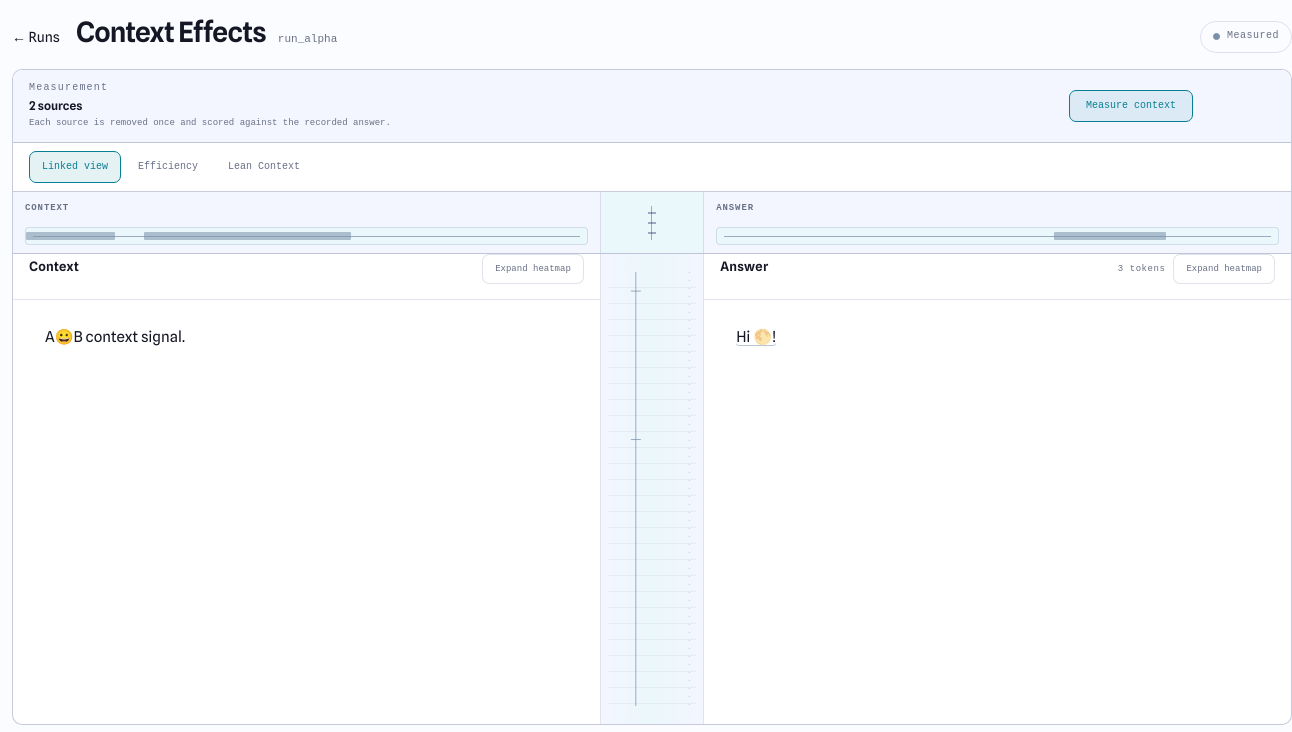
Inspect surface › encodes support and suppression separately in the expanded answer heatmap
Expected: the text "Measured" is shown, [1200, 21, 1291, 53]
Click the button "Expand heatmap" next to "3 tokens": x=1224, y=269 [1173, 254, 1275, 284]
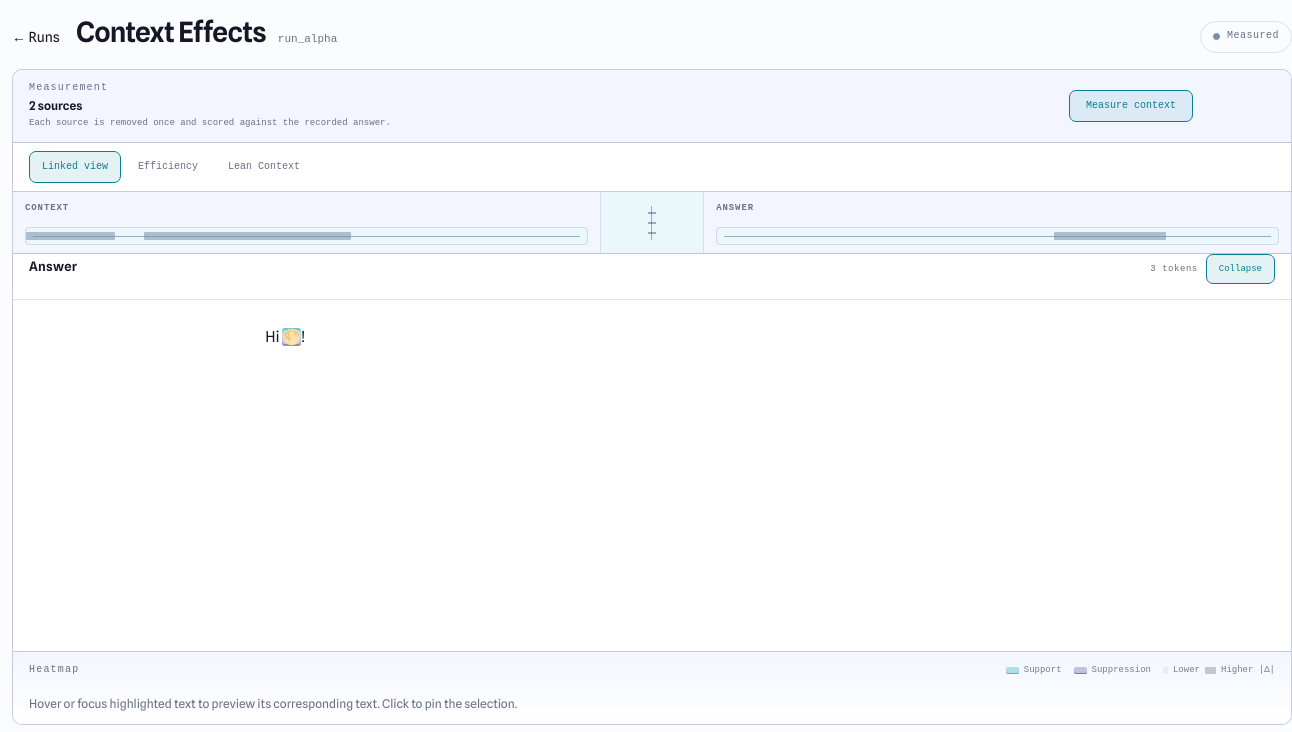
Expected: the button named "🌕; 2 measured relationships" has attribute data-direction="mixed"
Hover over the button named "🌕; 2 measured relationships": x=292, y=337 [282, 328, 301, 346]
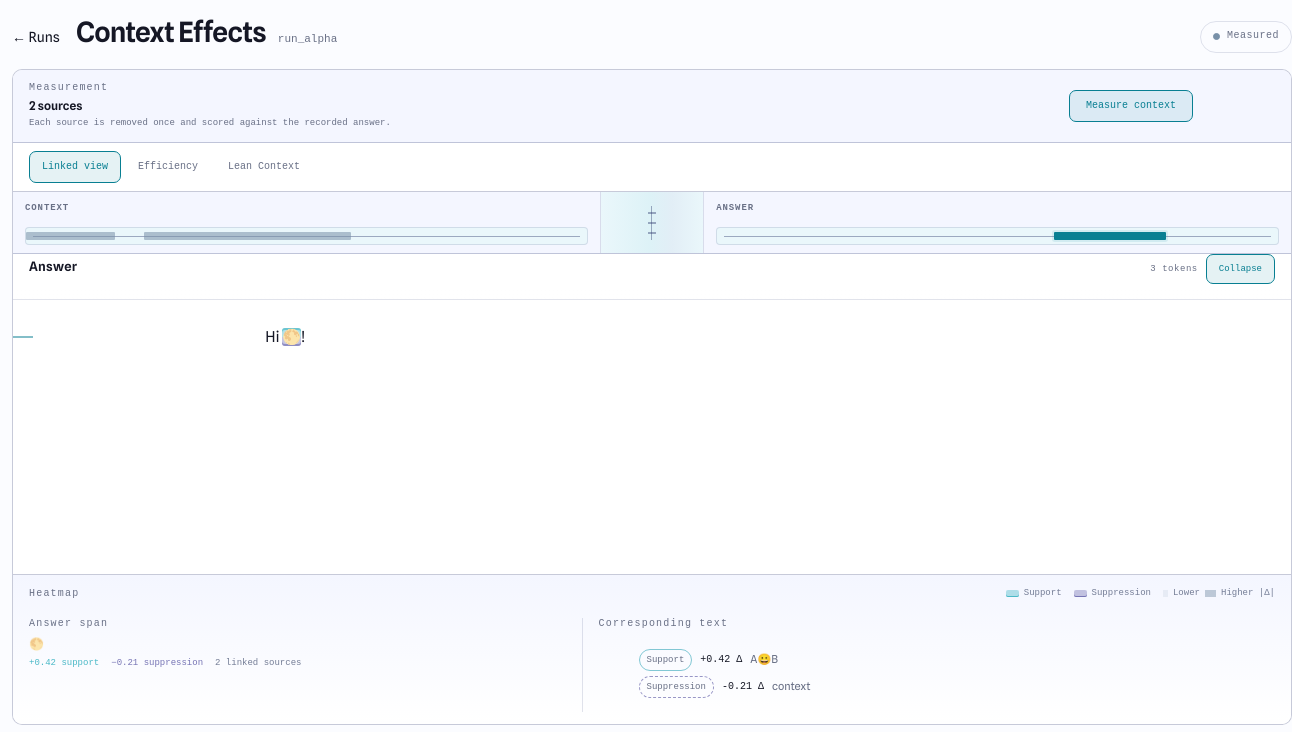
Expected: the element with class "heatmap-peek" shows "+0.42 support", [13, 574, 1291, 724]
